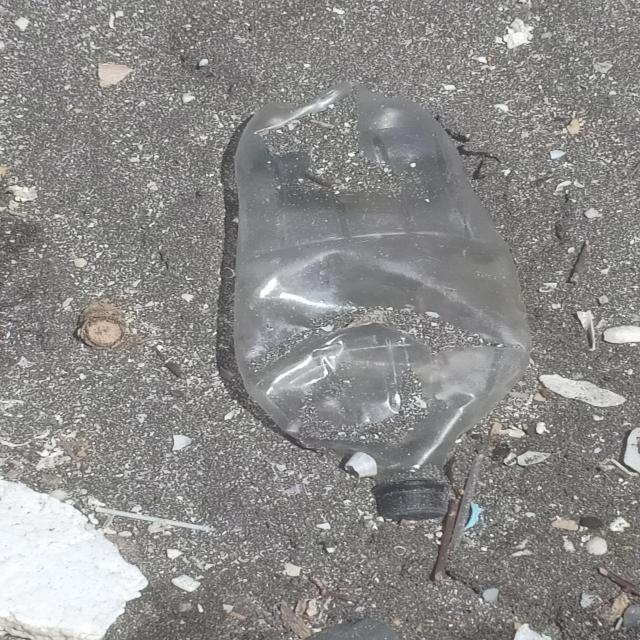plastic_waste: (228, 85, 540, 522)
styrofoam_waste: (0, 474, 146, 640)
